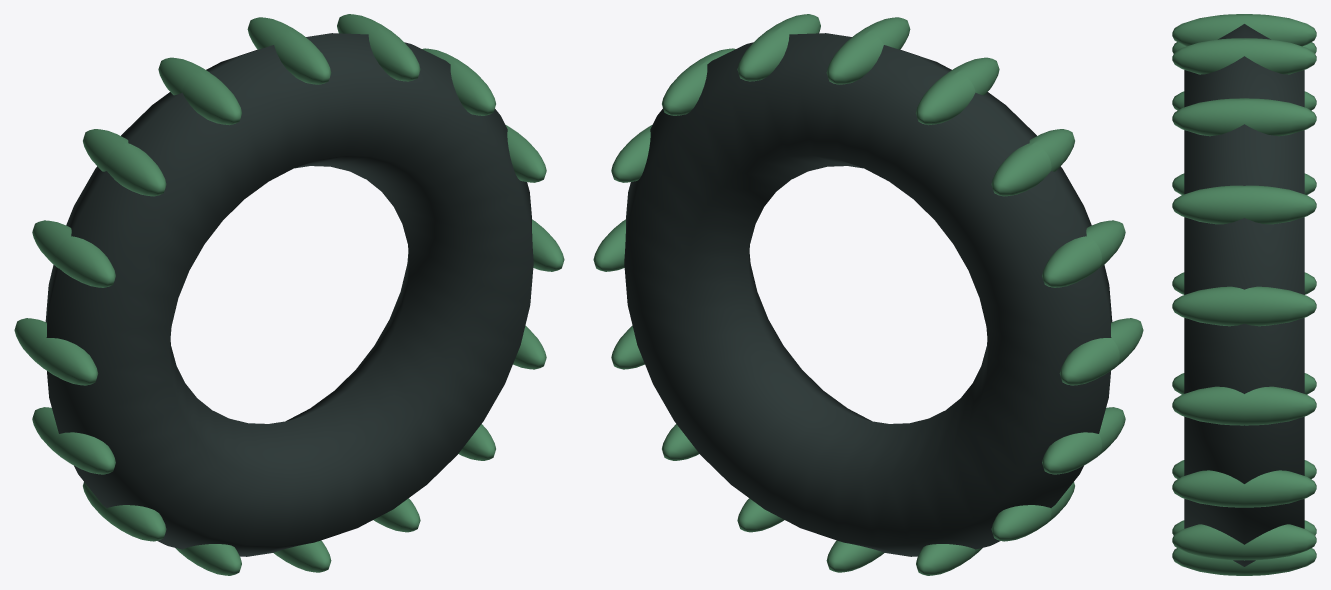
The model's file is bonus-grip-light.glb.
3 renders of one model, left to right at view 1: azimuth 30°, elevation 25°; view 2: azimuth 150°, elevation 25°; view 3: azimuth 270°, elevation 25°, orthographic. The views are drawn at different scales.
Visible parts, largest first — view 1: dark, green; view 2: dark, green; view 3: green, dark.
Part boxes in pixels (bbox=[...]): dark: bbox=[45, 33, 533, 556]; green: bbox=[14, 14, 564, 575]; dark: bbox=[624, 33, 1112, 556]; green: bbox=[593, 14, 1143, 575]; green: bbox=[1172, 14, 1316, 575]; dark: bbox=[1184, 24, 1304, 566].
Bounding box in the file's own units: 0.69 × 0.69 × 0.1773.
